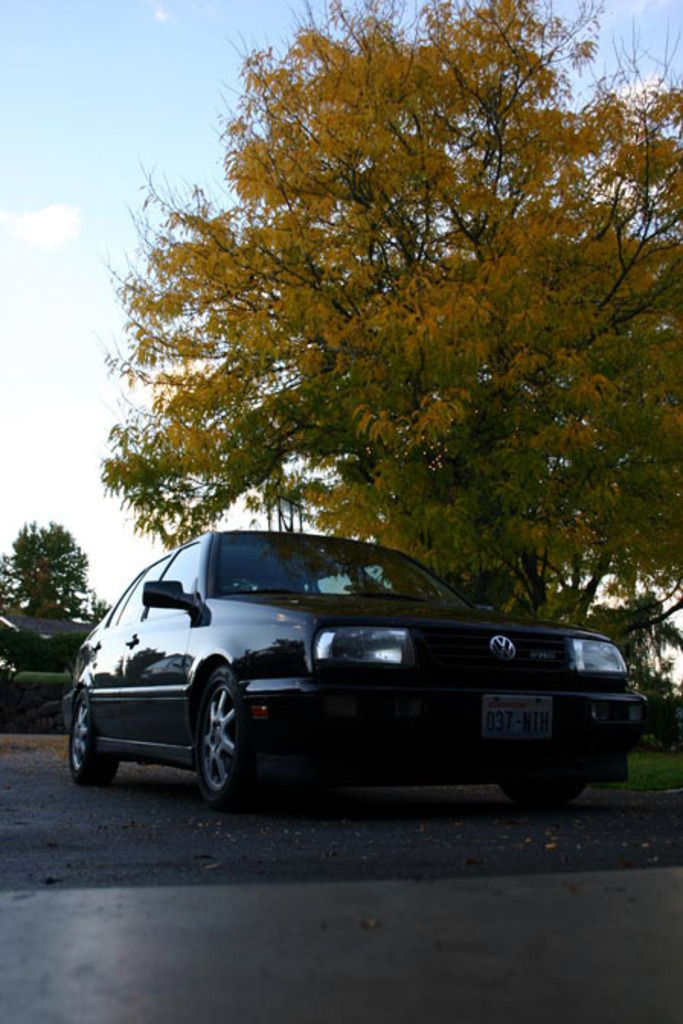Car: (68, 531, 640, 819)
